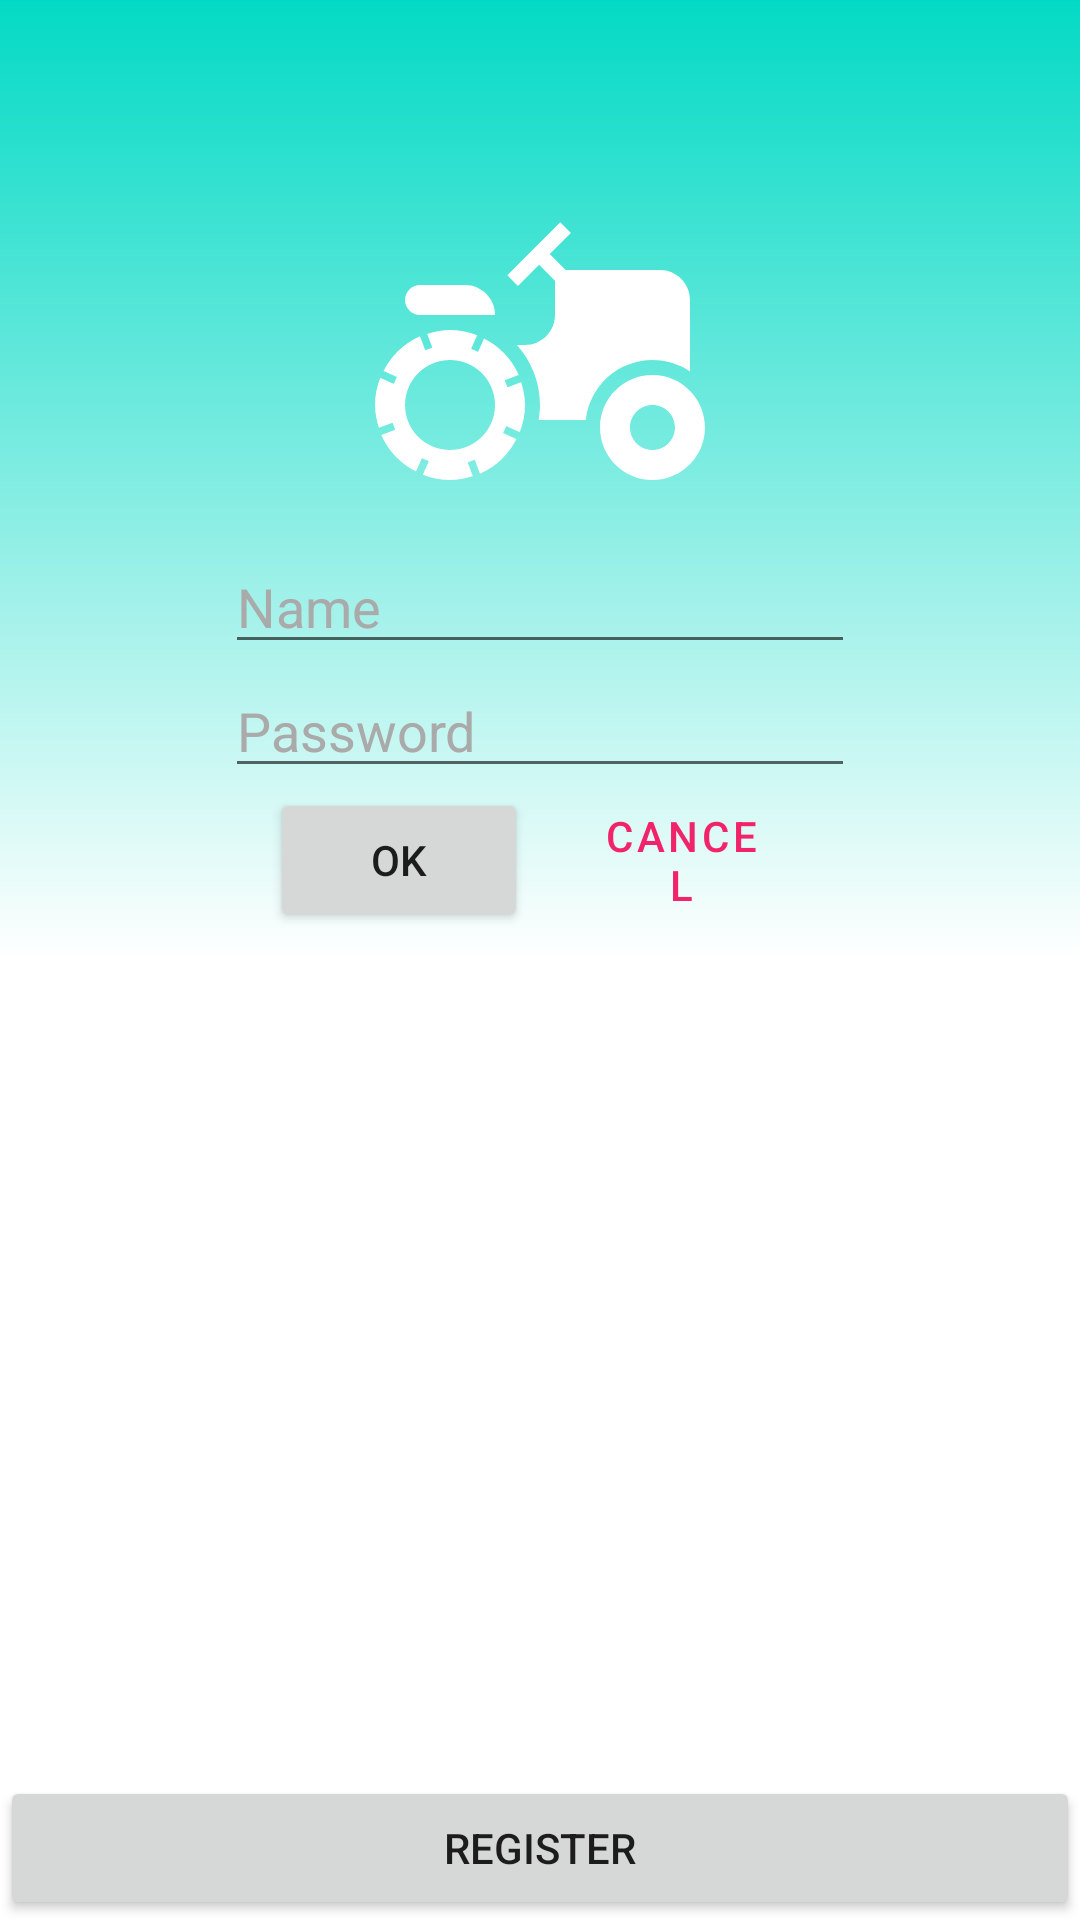

Where to tap for icons on this 1080px×1920px app screen, as (x=x, y=y):
agriculture: (x=540, y=360)
